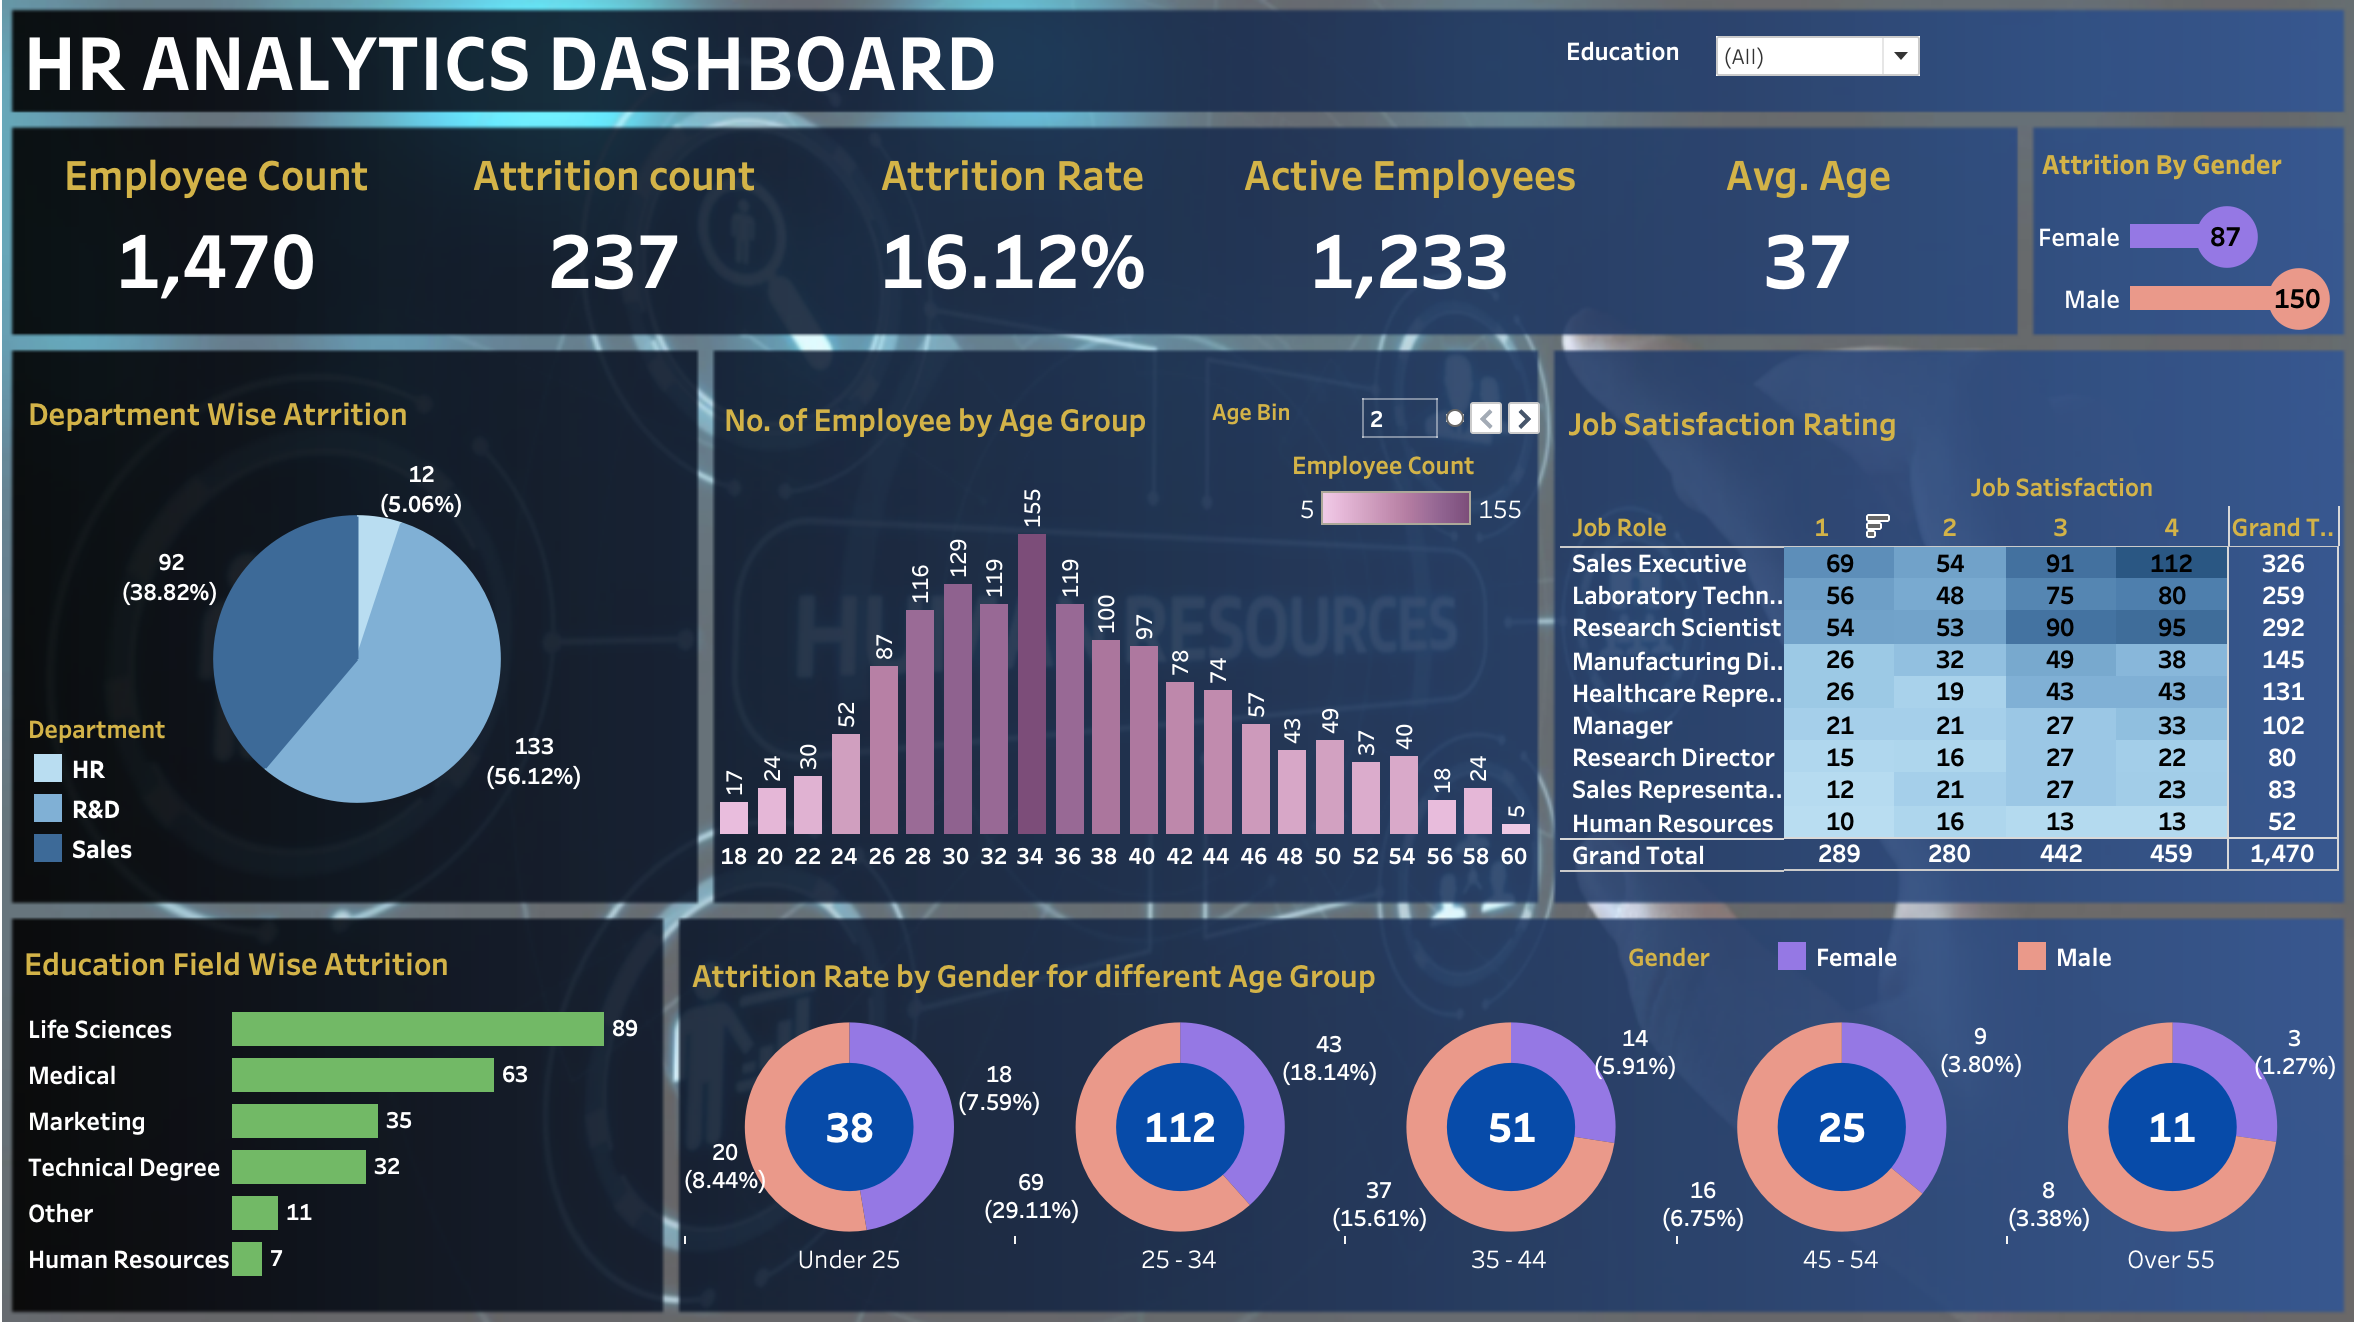

The page's visual inventory and layout, read from the dashboard file:
{"tool":"tableau","page":{"name":"HR Aanalytics ","canvas":[1070,900],"ordinal":0},"visuals":[{"type":"image","param":"Image/HR background.pptx.png","box":[8,8,1054,884]},{"type":"text","box":[21,115,685,130]},{"type":"filter","title":"Department Wise Atrrition","param":"[federated.06gr2we17l0roy18276p00ptd67j].[none:Education:nk]","box":[703,164,160,35]},{"type":"worksheet","title":"Attrition By Gender","mark":"Automatic","rows":["Gender"],"cols":["Calculation_409968335683682304","Calculation_409968335683682304"],"box":[917,208,135,96]},{"type":"worksheet","title":"KPI","mark":"Automatic","box":[20,216,887,84]},{"type":"worksheet","title":"No. of Employee by Age Group","mark":"Automatic","rows":["Employee Count"],"cols":["Age (bin)"],"box":[329,314,365,242]},{"type":"parameter","param":"[Parameters].[Parameter 2]","box":[550,315,149,27]},{"type":"worksheet","title":"Department Wise Atrrition","mark":"Pie","box":[19,316,300,239]},{"type":"worksheet","title":"Job Satisfaction Rating","mark":"Square","rows":["Job Role"],"cols":["Job Satisfaction"],"box":[705,316,348,239]},{"type":"legend","title":"No. of Employee by Age Group","param":"[federated.06gr2we17l0roy18276p00ptd67j].[sum:Employee Count:qk]","box":[586,343,107,54]},{"type":"legend","title":"Department Wise Atrrition","param":"[federated.06gr2we17l0roy18276p00ptd67j].[none:Department:nk]","box":[22,475,140,78]},{"type":"worksheet","title":"Education Field Wise Attrition","mark":"Automatic","rows":["Education Field"],"cols":["Calculation_409968335683682304"],"box":[17,566,290,174]},{"type":"legend","title":"Attrition Rate by Gender for different Age Group ","param":"[federated.06gr2we17l0roy18276p00ptd67j].[none:Gender:nk]","box":[748,568,305,33]},{"type":"worksheet","title":"Attrition Rate by Gender for different Age Group ","mark":"Pie","rows":["Calculation_409968335711240196","Calculation_409968335711240196"],"cols":["CF_age band"],"box":[315,569,737,166]}]}

Visuals, with their boxes on the page's 1070x900 design canvas (x1, y1, x2, y2). These are canvas units, not pixel positions in the 2354x1324 screenshot, which may show the page scaled, cropped or inside an application window:
image: 8 8 1062 892
text: 21 115 706 245
"Department Wise Atrrition" filter: 703 164 863 199
"Attrition By Gender" worksheet: 917 208 1052 304
"KPI" worksheet: 20 216 907 300
"No. of Employee by Age Group" worksheet: 329 314 694 556
parameter: 550 315 699 342
"Department Wise Atrrition" worksheet (Pie marks): 19 316 319 555
"Job Satisfaction Rating" worksheet (Square marks): 705 316 1053 555
"No. of Employee by Age Group" legend: 586 343 693 397
"Department Wise Atrrition" legend: 22 475 162 553
"Education Field Wise Attrition" worksheet: 17 566 307 740
"Attrition Rate by Gender for different Age Group " legend: 748 568 1053 601
"Attrition Rate by Gender for different Age Group " worksheet (Pie marks): 315 569 1052 735
